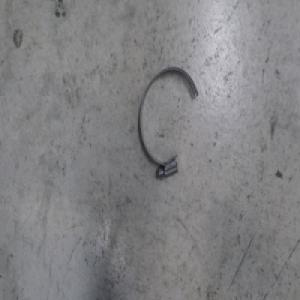AdjustableClamp: (138, 66, 199, 181)
